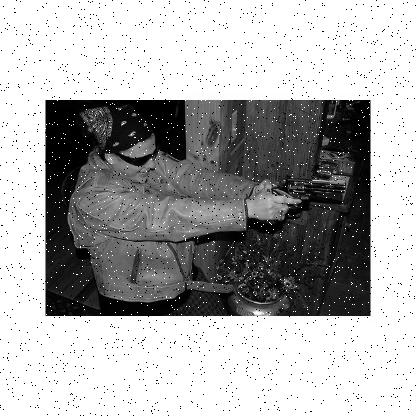gun: (264, 174, 346, 226)
